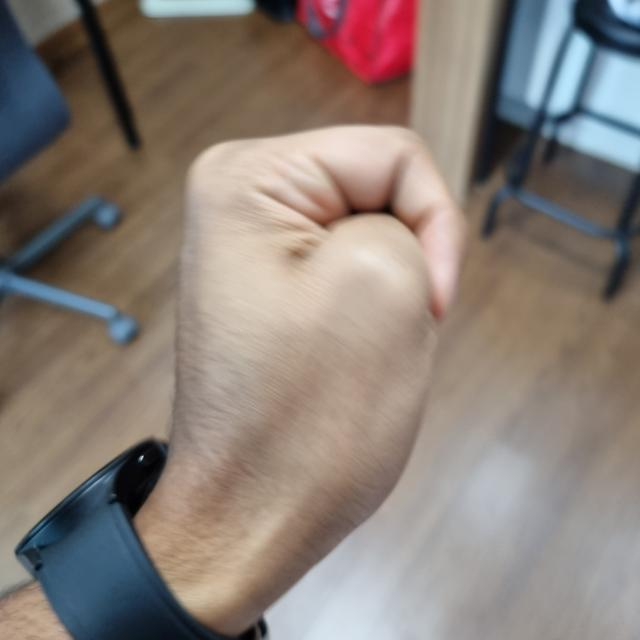Rock: (167, 124, 465, 565)
